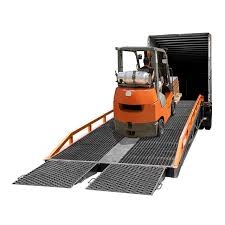Pallet Jack: (113, 46, 182, 139)
Yard Ramp: (12, 94, 203, 197)
